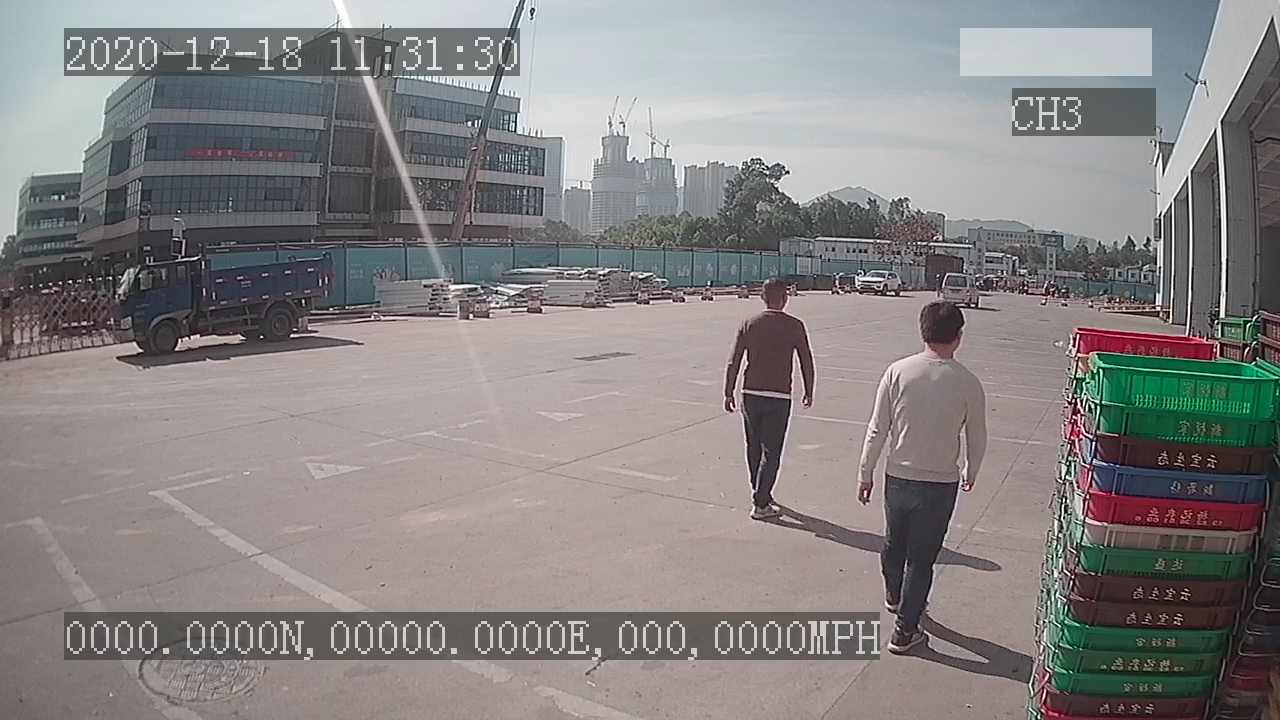person: (721, 269, 816, 523)
